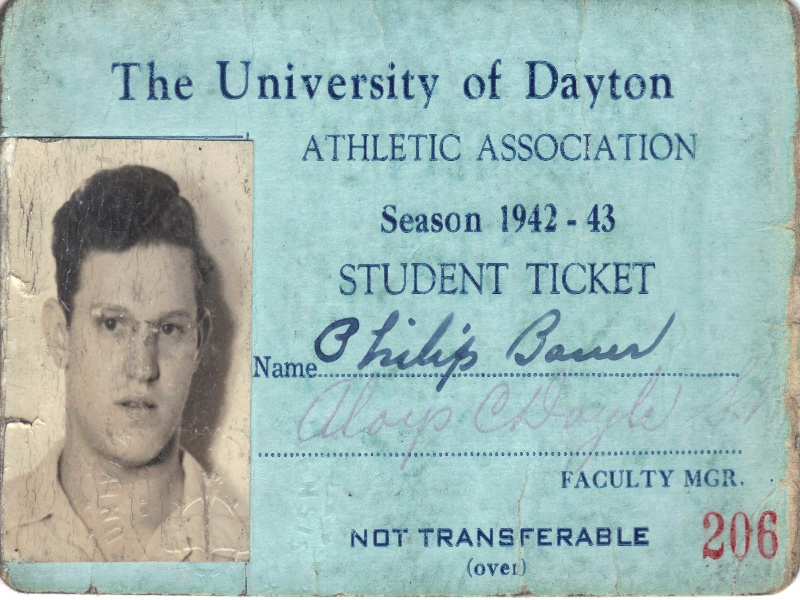face: (48, 248, 206, 465)
